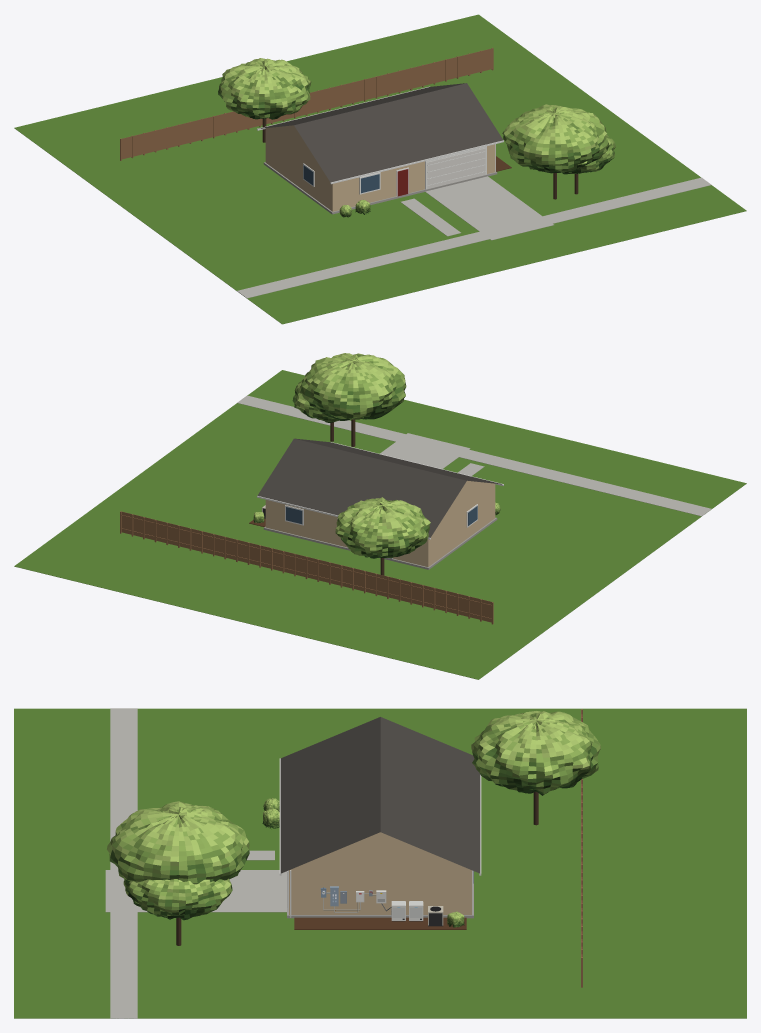
Rendered from home_01_post_install.obj.
3 views of the same model, one above another, from view 1: azimuth 30°, elevation 25°; view 2: azimuth 150°, elevation 25°; view 3: azimuth 270°, elevation 25° (orthographic). The views are drawn at different scales.
Parts seen in each view (by area): view 1: yard, house, tree_2, tree_1, tree_3; view 2: yard, house, tree_2, tree_1, tree_3; view 3: yard, house, tree_2, tree_1, tree_3, mulch_bed_side.
Part boxes in pixels (bbox=[...]): yard: bbox=[14, 14, 746, 324]; house: bbox=[257, 83, 503, 214]; tree_2: bbox=[502, 104, 609, 199]; tree_1: bbox=[218, 58, 311, 142]; tree_3: bbox=[562, 135, 615, 194]; yard: bbox=[14, 370, 746, 679]; house: bbox=[257, 438, 503, 569]; tree_2: bbox=[300, 353, 406, 446]; tree_1: bbox=[335, 497, 430, 575]; tree_3: bbox=[292, 381, 338, 441]; yard: bbox=[14, 708, 746, 1018]; house: bbox=[279, 717, 481, 918]; tree_2: bbox=[107, 801, 249, 884]; tree_1: bbox=[471, 711, 600, 825]; tree_3: bbox=[123, 878, 232, 945]; mulch_bed_side: bbox=[294, 917, 466, 929].
Bounding box in the file's own units: 40 × 7.14 × 40.
